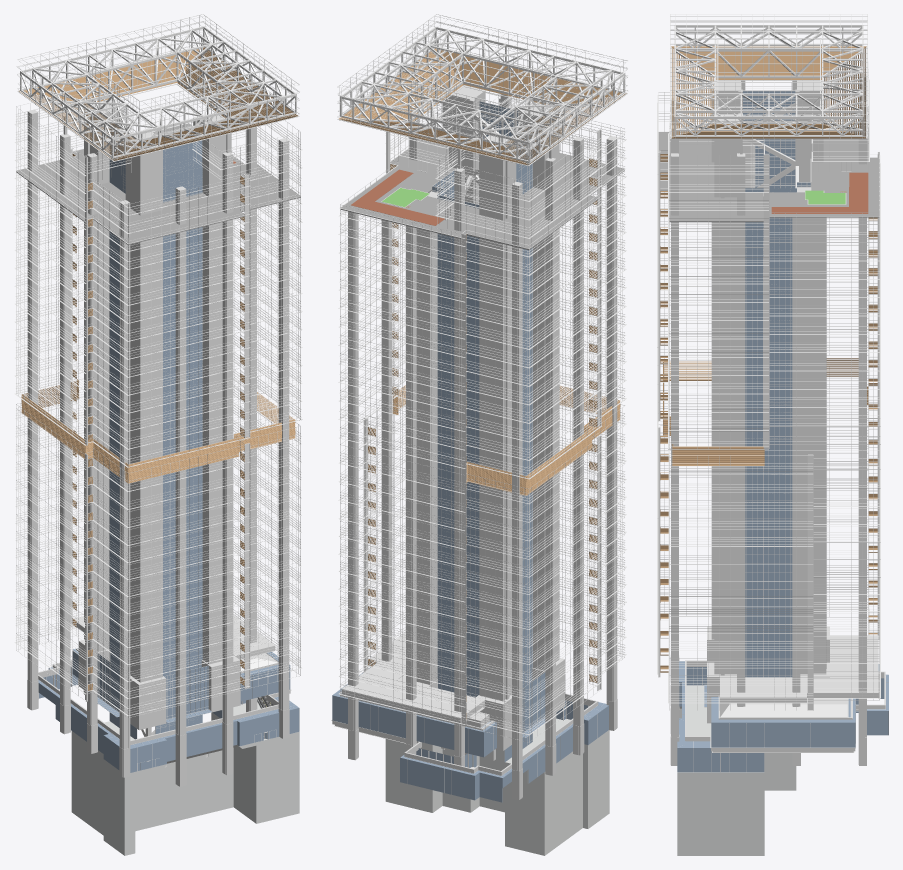
The model's file is lujiazui-28.glb.
3 views of the same model, side by side, from view 1: azimuth 30°, elevation 25°; view 2: azimuth 150°, elevation 25°; view 3: azimuth 270°, elevation 25° (orthographic). The views are drawn at different scales.
Parts seen in each view (by area): view 1: source_3157_Mat3d66-1303573-2058-8634_part0, source_3159_Mat3d66-1303573-2059-2361_part0, source_3158_Mat3d66-1303573-2060-2448_part0, source_3156_Mat3d66-1303573-2057-8709_part0, source_3178_Mat3d66-1303573-2063-5094_part0, source_3155_Mat3d66-1303573-2118-3444_part0, source_3205_Mat3d66-1303573-2153-4388_part0, source_3189_Mat3d66-1303573-2057-8709_part0, source_3197_Mat3d66-1303573-2060-2448_part0, source_3210_Mat3d66-1303573-2059-2361_part0, source_3202_Mat3d66-1303573-2060-2448_part0, source_3187_Mat3d66-1303573-2057-8709_part0 (+1 smaller); view 2: source_3157_Mat3d66-1303573-2058-8634_part0, source_3159_Mat3d66-1303573-2059-2361_part0, source_3158_Mat3d66-1303573-2060-2448_part0, source_3156_Mat3d66-1303573-2057-8709_part0, source_3155_Mat3d66-1303573-2118-3444_part0, source_3178_Mat3d66-1303573-2063-5094_part0, source_3205_Mat3d66-1303573-2153-4388_part0, source_3187_Mat3d66-1303573-2057-8709_part0, source_3201_Mat3d66-1303573-2057-8709_part0, source_3189_Mat3d66-1303573-2057-8709_part0, source_3210_Mat3d66-1303573-2059-2361_part0, source_3204_Mat3d66-1303573-2061-2195_part0 (+2 smaller); view 3: source_3157_Mat3d66-1303573-2058-8634_part0, source_3158_Mat3d66-1303573-2060-2448_part0, source_3156_Mat3d66-1303573-2057-8709_part0, source_3159_Mat3d66-1303573-2059-2361_part0, source_3155_Mat3d66-1303573-2118-3444_part0, source_3205_Mat3d66-1303573-2153-4388_part0, source_3178_Mat3d66-1303573-2063-5094_part0, source_3187_Mat3d66-1303573-2057-8709_part0, source_3189_Mat3d66-1303573-2057-8709_part0, source_3198_Mat3d66-1303573-2060-2448_part0, source_3204_Mat3d66-1303573-2061-2195_part0, source_3181_Mat3d66-1303573-2063-5094_part0 (+6 smaller).
Boxes of the visible parts, <box> form: source_3157_Mat3d66-1303573-2058-8634_part0: <box>14,14,302,738</box>; source_3159_Mat3d66-1303573-2059-2361_part0: <box>27,104,289,749</box>; source_3158_Mat3d66-1303573-2060-2448_part0: <box>63,99,275,736</box>; source_3156_Mat3d66-1303573-2057-8709_part0: <box>97,123,211,739</box>; source_3178_Mat3d66-1303573-2063-5094_part0: <box>71,702,299,855</box>; source_3155_Mat3d66-1303573-2118-3444_part0: <box>19,47,297,690</box>; source_3205_Mat3d66-1303573-2153-4388_part0: <box>16,123,300,244</box>; source_3189_Mat3d66-1303573-2057-8709_part0: <box>55,694,299,772</box>; source_3197_Mat3d66-1303573-2060-2448_part0: <box>130,655,240,730</box>; source_3210_Mat3d66-1303573-2059-2361_part0: <box>27,679,289,777</box>; source_3202_Mat3d66-1303573-2060-2448_part0: <box>38,660,278,744</box>; source_3187_Mat3d66-1303573-2057-8709_part0: <box>72,648,290,701</box>; source_3157_Mat3d66-1303573-2058-8634_part0: <box>337,14,628,761</box>; source_3159_Mat3d66-1303573-2059-2361_part0: <box>348,80,617,771</box>; source_3158_Mat3d66-1303573-2060-2448_part0: <box>341,85,559,760</box>; source_3156_Mat3d66-1303573-2057-8709_part0: <box>432,101,545,761</box>; source_3155_Mat3d66-1303573-2118-3444_part0: <box>339,48,626,718</box>; source_3178_Mat3d66-1303573-2063-5094_part0: <box>385,730,609,855</box>; source_3205_Mat3d66-1303573-2153-4388_part0: <box>340,140,624,250</box>; source_3187_Mat3d66-1303573-2057-8709_part0: <box>332,667,496,757</box>; source_3201_Mat3d66-1303573-2057-8709_part0: <box>400,748,502,802</box>; source_3189_Mat3d66-1303573-2057-8709_part0: <box>526,700,608,783</box>; source_3210_Mat3d66-1303573-2059-2361_part0: <box>348,699,617,800</box>; source_3204_Mat3d66-1303573-2061-2195_part0: <box>351,169,444,225</box>; source_3157_Mat3d66-1303573-2058-8634_part0: <box>657,14,880,710</box>; source_3158_Mat3d66-1303573-2060-2448_part0: <box>711,79,878,702</box>; source_3156_Mat3d66-1303573-2057-8709_part0: <box>704,91,810,706</box>; source_3159_Mat3d66-1303573-2059-2361_part0: <box>671,74,866,737</box>; source_3155_Mat3d66-1303573-2118-3444_part0: <box>660,46,877,672</box>; source_3205_Mat3d66-1303573-2153-4388_part0: <box>658,127,879,222</box>; source_3178_Mat3d66-1303573-2063-5094_part0: <box>677,685,796,855</box>; source_3187_Mat3d66-1303573-2057-8709_part0: <box>711,697,855,747</box>; source_3189_Mat3d66-1303573-2057-8709_part0: <box>677,661,764,772</box>; source_3198_Mat3d66-1303573-2060-2448_part0: <box>720,698,847,717</box>; source_3204_Mat3d66-1303573-2061-2195_part0: <box>771,172,868,213</box>; source_3181_Mat3d66-1303573-2063-5094_part0: <box>679,690,711,736</box>.
Size of the model in its own units: 63.82 by 224 by 62.96.
